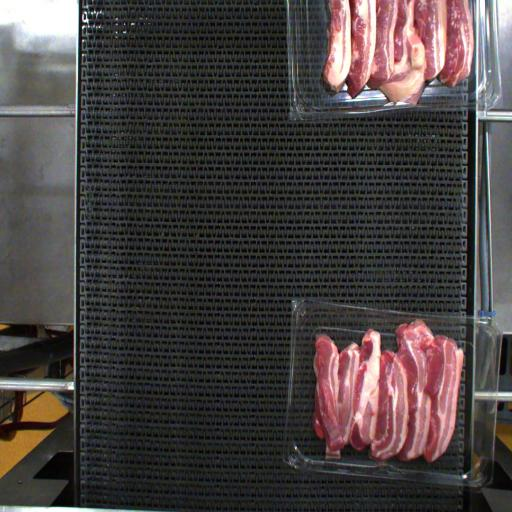twisted-meat: (316, 347, 350, 467)
